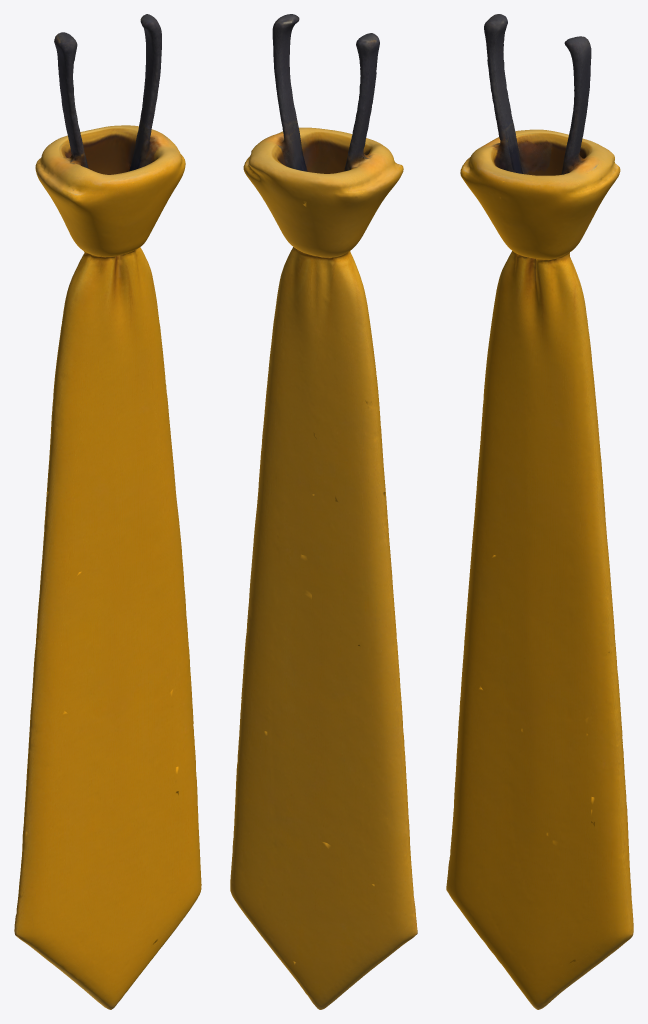
Rendered from Meshy_AI_A_classic_men_s_busin_0421141231_texture.glb.
The picture shows the model from 3 angles, left to right: view 1: azimuth 30°, elevation 25°; view 2: azimuth 150°, elevation 25°; view 3: azimuth 330°, elevation 25°; orthographic projection.
Bounding box in the file's own units: 0.3961 × 2 × 0.2276.
Materials: 1 (1 with a texture image).
